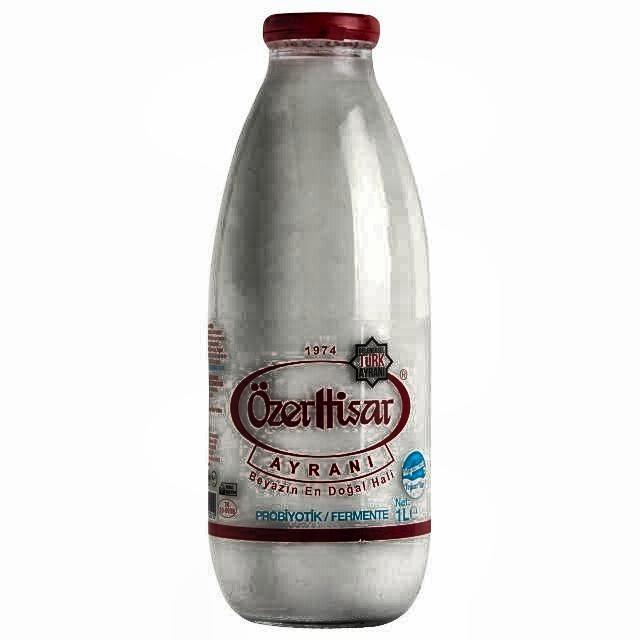glass: (205, 12, 437, 630)
